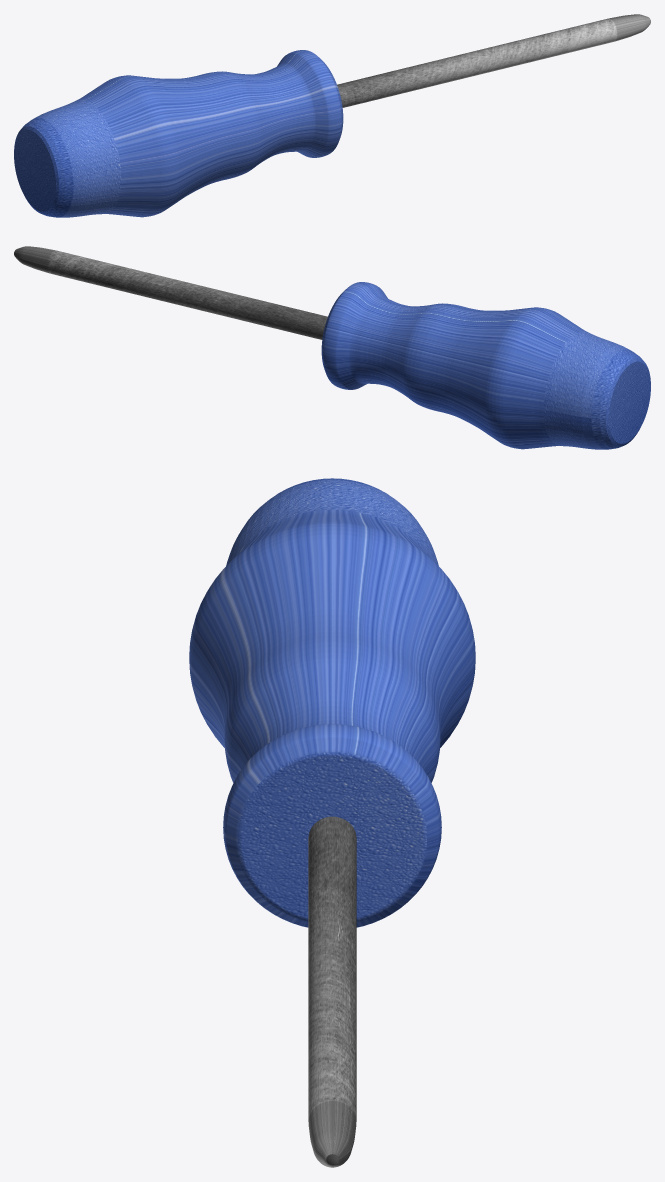
File: screwdriver.glb
The picture shows the model from 3 angles, top to bottom: view 1: azimuth 30°, elevation 25°; view 2: azimuth 150°, elevation 25°; view 3: azimuth 270°, elevation 25°; orthographic projection. The views are drawn at different scales.
Visible parts, largest first — view 1: Цилиндр, Цилиндр.001; view 2: Цилиндр, Цилиндр.001; view 3: Цилиндр, Цилиндр.001.
Boxes of the visible parts, left/top/right/bottom form: Цилиндр: left=14, top=50, right=343, bottom=217; Цилиндр.001: left=337, top=14, right=650, bottom=107; Цилиндр: left=321, top=282, right=650, bottom=449; Цилиндр.001: left=14, top=246, right=327, bottom=339; Цилиндр: left=189, top=478, right=475, bottom=927; Цилиндр.001: left=308, top=816, right=356, bottom=1167.
Size of the model in its own units: 0.2513 by 0.0507 by 0.0507.
Materials: 2 (2 with a texture image).
